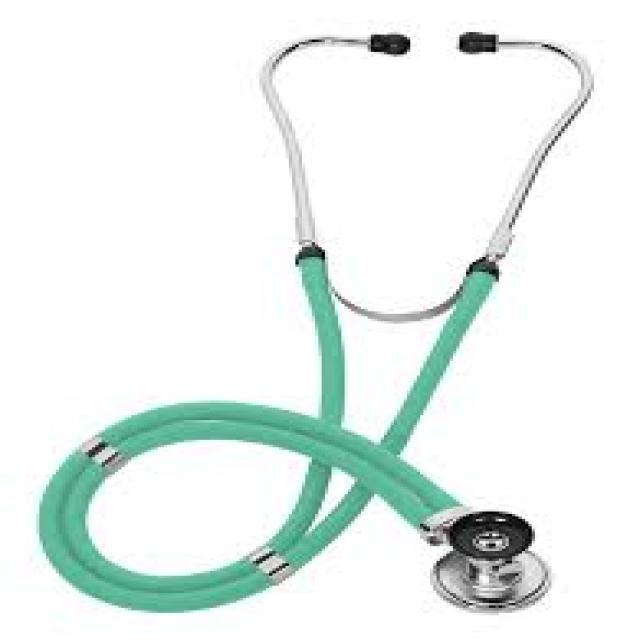stethoscope: (25, 1, 573, 621)
